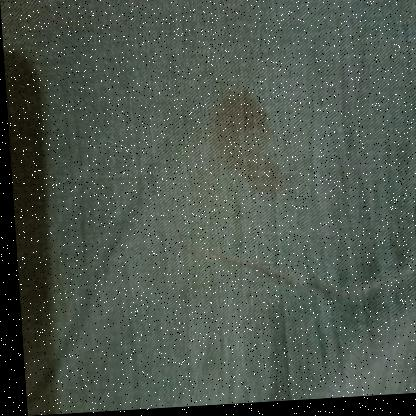spot: (195, 69, 279, 224)
